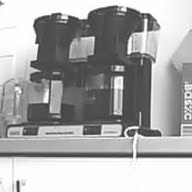not empty coffee: (79, 62, 138, 122)
